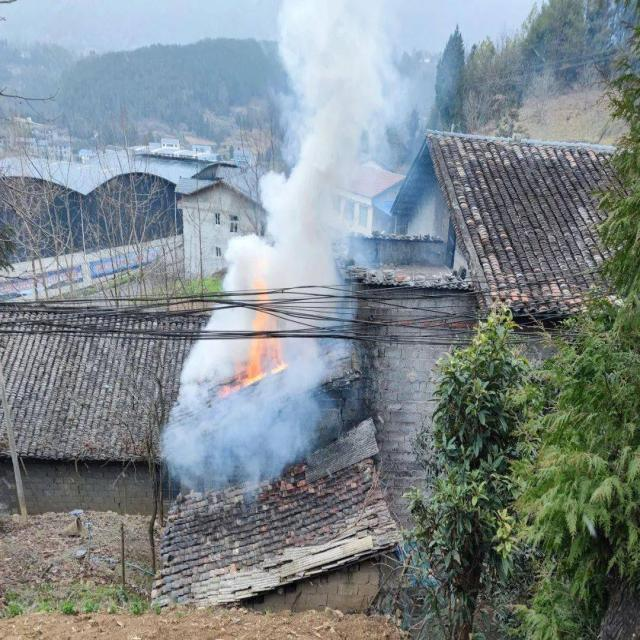Fire: (220, 283, 285, 392)
Smoke: (158, 0, 402, 498)
